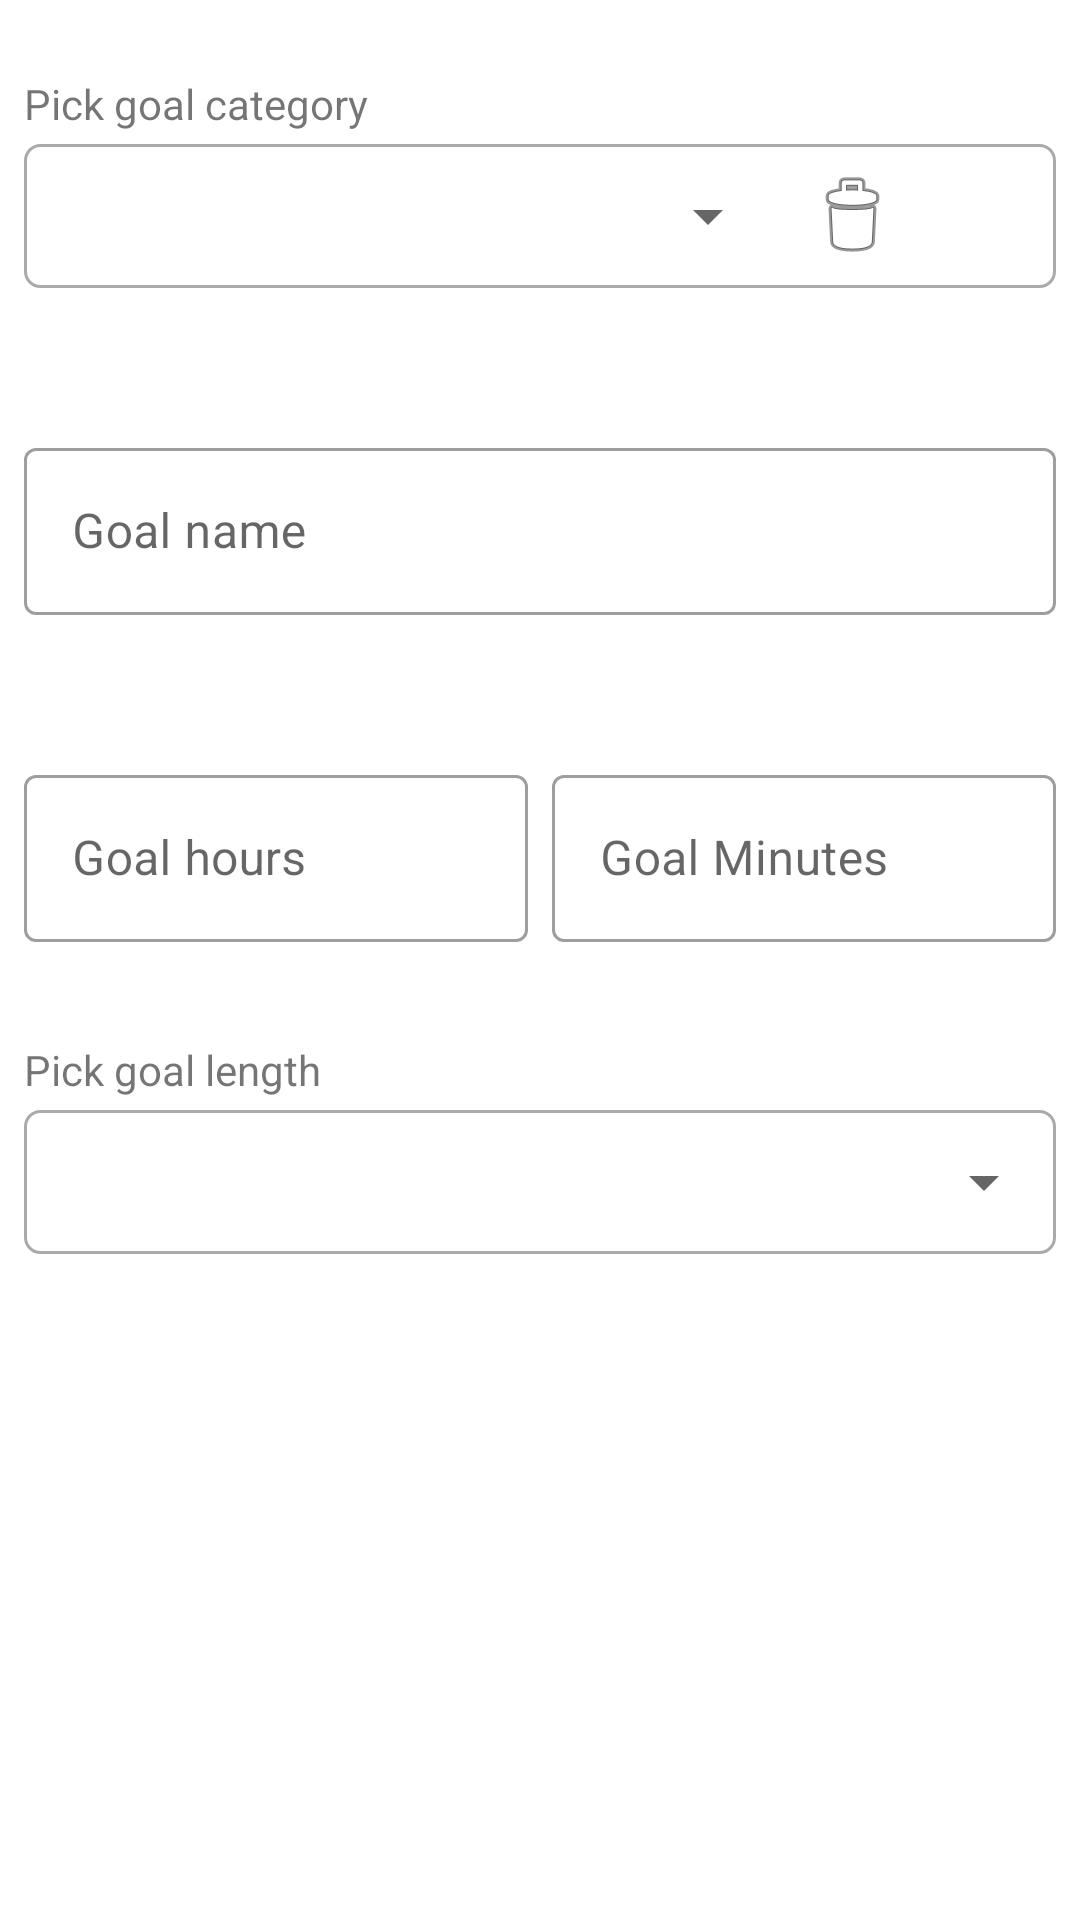

Icon click points for this 1080px x 1920px phone screenshot, format point (x, y):
delete: point (852, 214)
